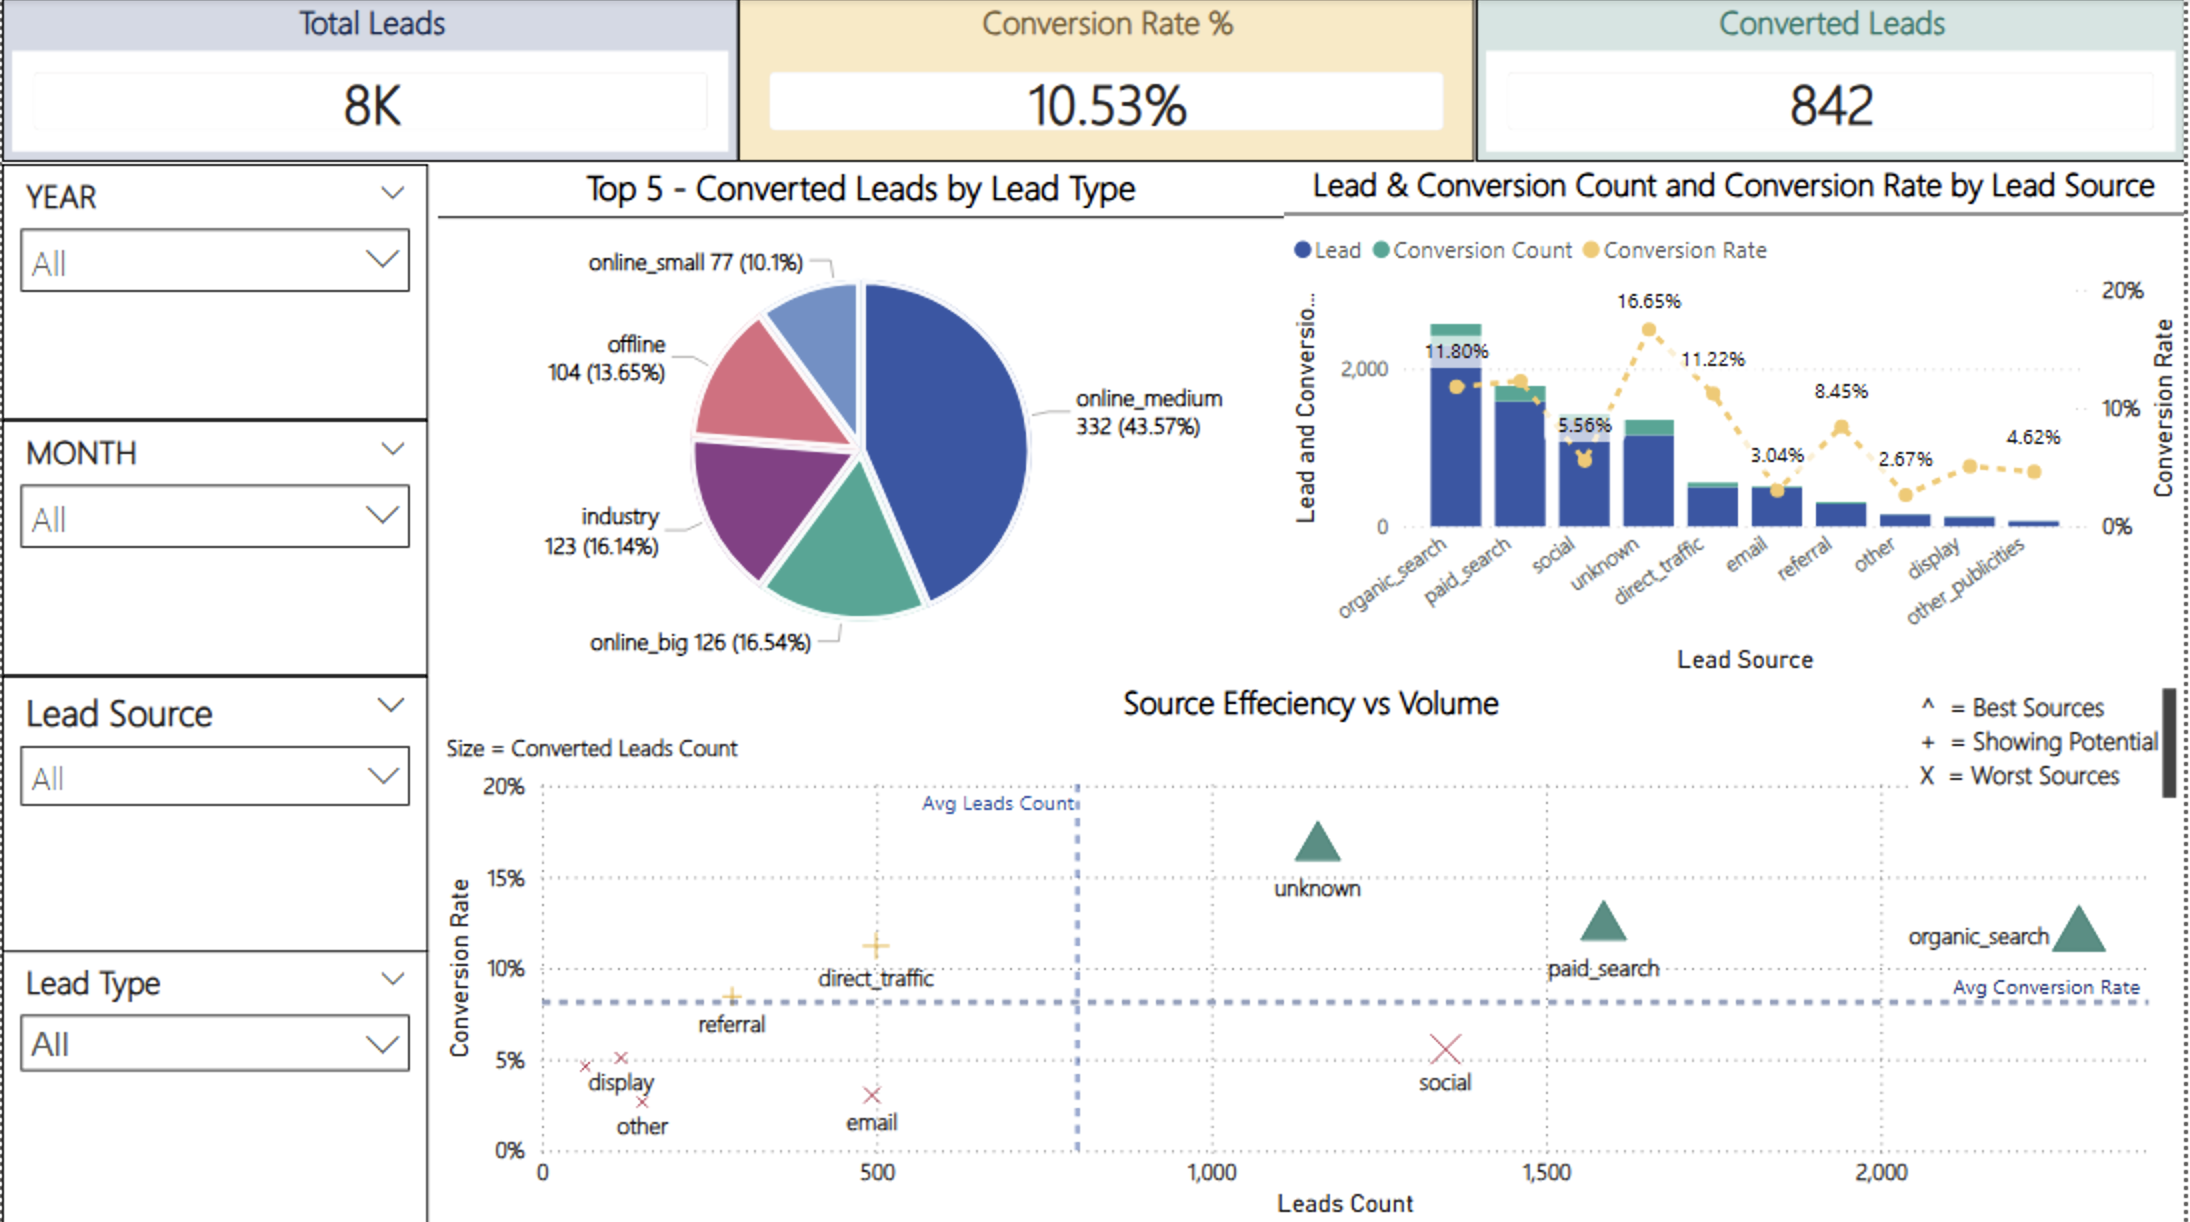

This screenshot's page, from the dashboard's own definition file:
{"tool":"powerbi","page":{"name":"Executive Summary","canvas":[1280,720],"ordinal":0},"visuals":[{"type":"cardVisual","title":"Converted Leads","fields":{"Data":["Measures_table.Count_converted"]},"box":[864,0,416,96],"z":0},{"type":"cardVisual","title":"Total Leads","fields":{"Data":["Measures_table.Count_total_leads"]},"box":[0,0,432,96],"z":1000},{"type":"cardVisual","title":"Conversion Rate %","fields":{"Data":["Measures_table.Conversion Rate"]},"box":[432,0,432,96],"z":2000},{"type":"slicer","fields":{"Values":["Date_Table.Year"]},"box":[0,97.8,250,150],"z":3000},{"type":"slicer","fields":{"Values":["Date_Table.Year-Month"]},"box":[0,247.7,250.3,149.9],"z":4000},{"type":"slicer","fields":{"Values":["Converted_Leads.lead_type"]},"box":[0,557.9,250.3,161.6],"z":5000},{"type":"slicer","fields":{"Values":["Total_Leads.origin"]},"box":[0,397.6,250,162],"z":6000},{"type":"lineStackedColumnComboChart","title":"Lead & Conversion Count and Conversion Rate by Lead Source","fields":{"Category":["Dim_Leads.origin"],"Y":["Measures_table.Count_total_leads","Measures_table.Count_converted"],"Y2":["Measures_table.Conversion_Rate"]},"box":[752,96,528,304],"z":7000},{"type":"scatterChart","title":"Source Effeciency vs Volume","fields":{"Category":["Dim_Leads.origin"],"Y":["Measures_table.Conversion_Rate"],"Size":["Measures_table.Count_converted"],"X":["Measures_table.Count_total_leads"]},"box":[256,400,1024,320],"z":8000},{"type":"pieChart","title":"Top 5 - Converted Leads by Lead Type","fields":{"Category":["Converted_Leads.lead_type"],"Y":["Measures_table.Count_converted"]},"box":[256,96,496,304],"z":9000},{"type":"textbox","box":[1120,400,160,80],"z":10000}]}

Visuals, with their boxes in screenshot pixels (x1, y1, x2, y2), scaled from the page's 1280x720 canvas onto the 2190x1222 screenshot:
"Converted Leads" cardVisual: box=[1478, 0, 2189, 163]
"Total Leads" cardVisual: box=[0, 0, 739, 163]
"Conversion Rate %" cardVisual: box=[739, 0, 1478, 163]
slicer - Date_Table.Year: box=[0, 166, 428, 421]
slicer - Date_Table.Year-Month: box=[0, 420, 428, 675]
slicer - Converted_Leads.lead_type: box=[0, 947, 428, 1221]
slicer - Total_Leads.origin: box=[0, 675, 428, 950]
"Lead & Conversion Count and Conversion Rate by Lead Source" lineStackedColumnComboChart: box=[1287, 163, 2189, 679]
"Source Effeciency vs Volume" scatterChart: box=[438, 679, 2189, 1221]
"Top 5 - Converted Leads by Lead Type" pieChart: box=[438, 163, 1287, 679]
textbox: box=[1916, 679, 2189, 815]
